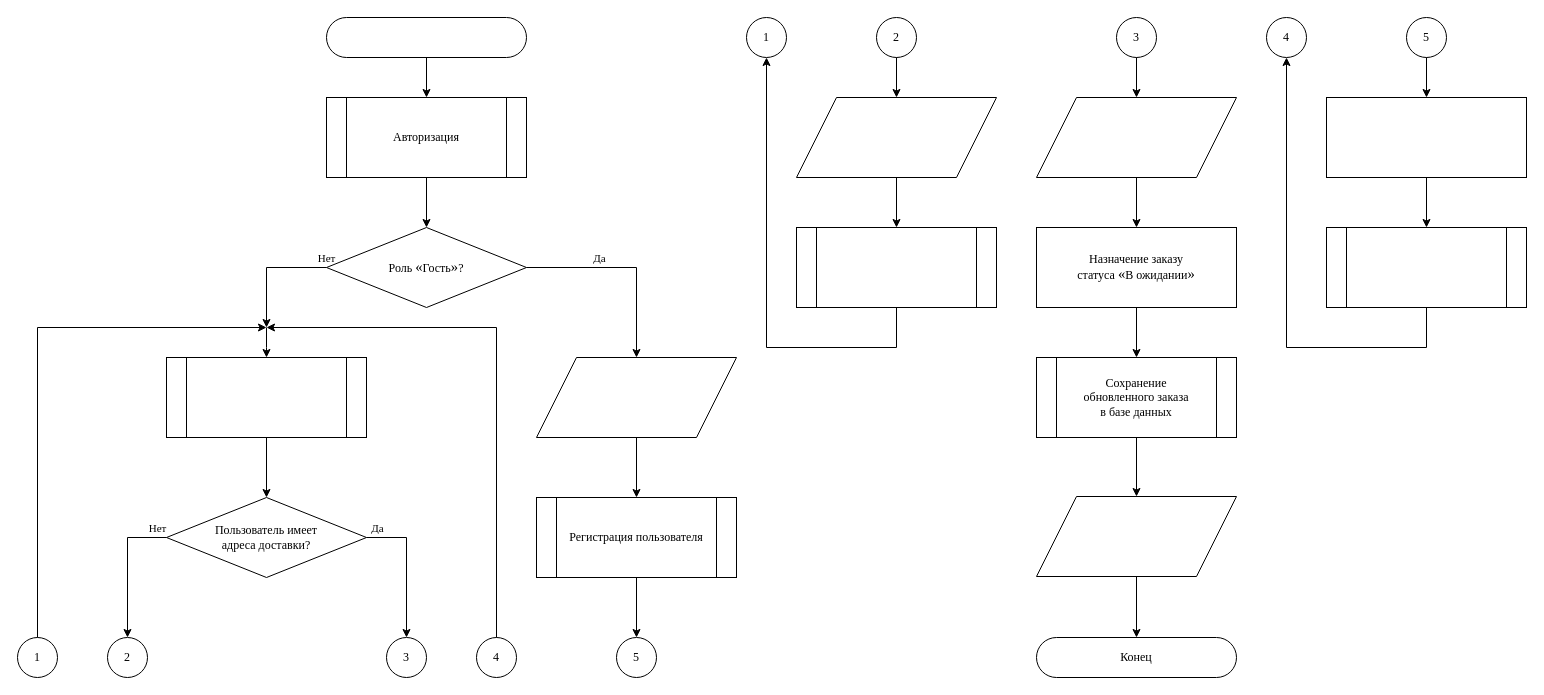
The diagram is 1544 pixels wide and 695 high, and some of its shapes have lost their labels. Each missing label, with the centre of its shape:
Ввод информации об адресе доставки: (x=896, y=137)
Выбор адреса и даты доставки заказа: (x=1136, y=137)
Вывод уведомления о невозможности оформления заказа: (x=636, y=397)
Вывод уведомления о подтверждении заказа: (x=1136, y=536)
Начало: (x=426, y=37)
Получение информации о заказе из базы даных: (x=266, y=397)
Создание адреса доставки в базе данных: (x=896, y=267)
Сохранение данных о порциях блюд заказа в базе данных: (x=1426, y=267)
Считывание данных о порциях блюд из корзины: (x=1426, y=137)
